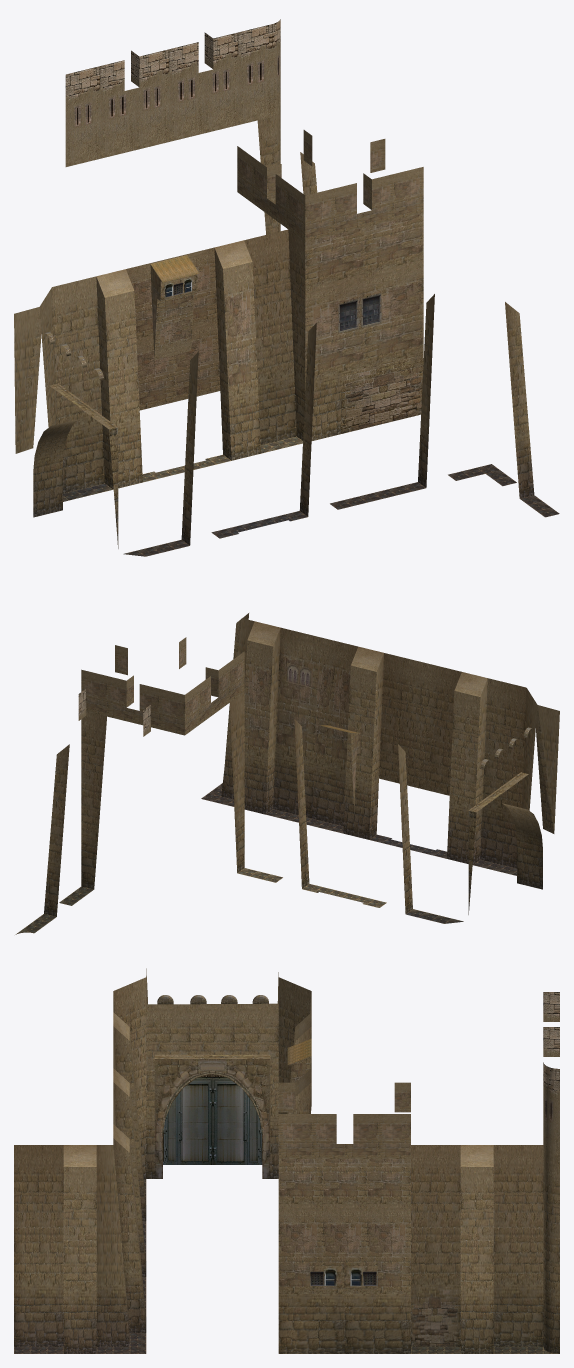
The model's file is M7Z1_CityWall1.glb.
3 views of the same model, one above another, from view 1: azimuth 30°, elevation 25°; view 2: azimuth 150°, elevation 25°; view 3: azimuth 270°, elevation 25° (orthographic). The views are drawn at different scales.
Visible parts, largest first — view 1: M7Z1_CITYWALL1; view 2: M7Z1_CITYWALL1; view 3: M7Z1_CITYWALL1.
Boxes of the visible parts, <box> form: M7Z1_CITYWALL1: <box>14,19,559,556</box>; M7Z1_CITYWALL1: <box>15,613,559,934</box>; M7Z1_CITYWALL1: <box>14,968,559,1353</box>.
Size of the model in its own units: 27.73 by 19 by 33.
Materials: 14 (14 with a texture image).
